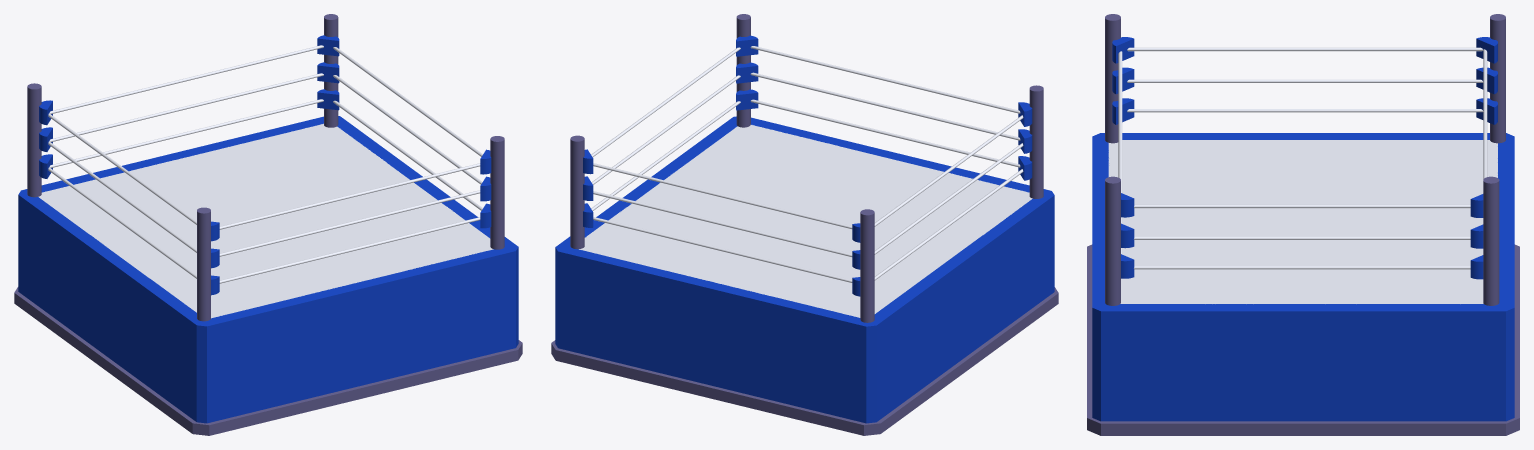
The model's file is RingBYWS.fbx.
3 views of the same model, side by side, from view 1: azimuth 30°, elevation 25°; view 2: azimuth 150°, elevation 25°; view 3: azimuth 270°, elevation 25° (orthographic). The views are drawn at different scales.
Visible parts, largest first — view 1: mergedBlocks; view 2: mergedBlocks; view 3: mergedBlocks.
Part boxes in pixels (x1,y1,x2,y2): mergedBlocks: [14, 14, 522, 435]; mergedBlocks: [551, 14, 1058, 435]; mergedBlocks: [1087, 14, 1519, 435].
Size of the model in its own units: 32.05 by 20 by 32.05.
